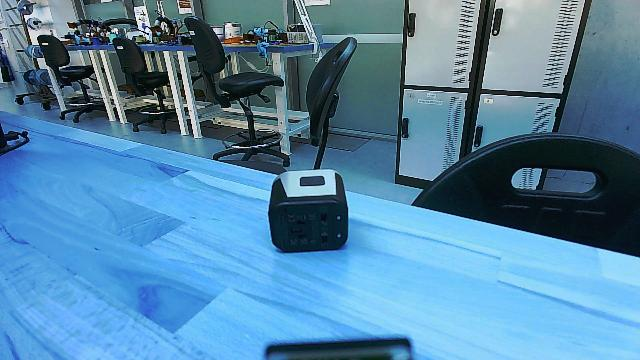adapter: (268, 168, 352, 254)
